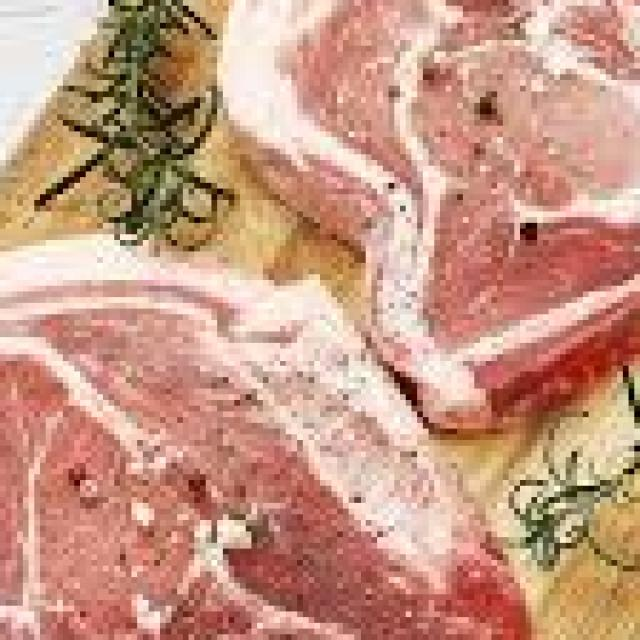meat: (0, 285, 474, 640), (314, 0, 640, 269)
